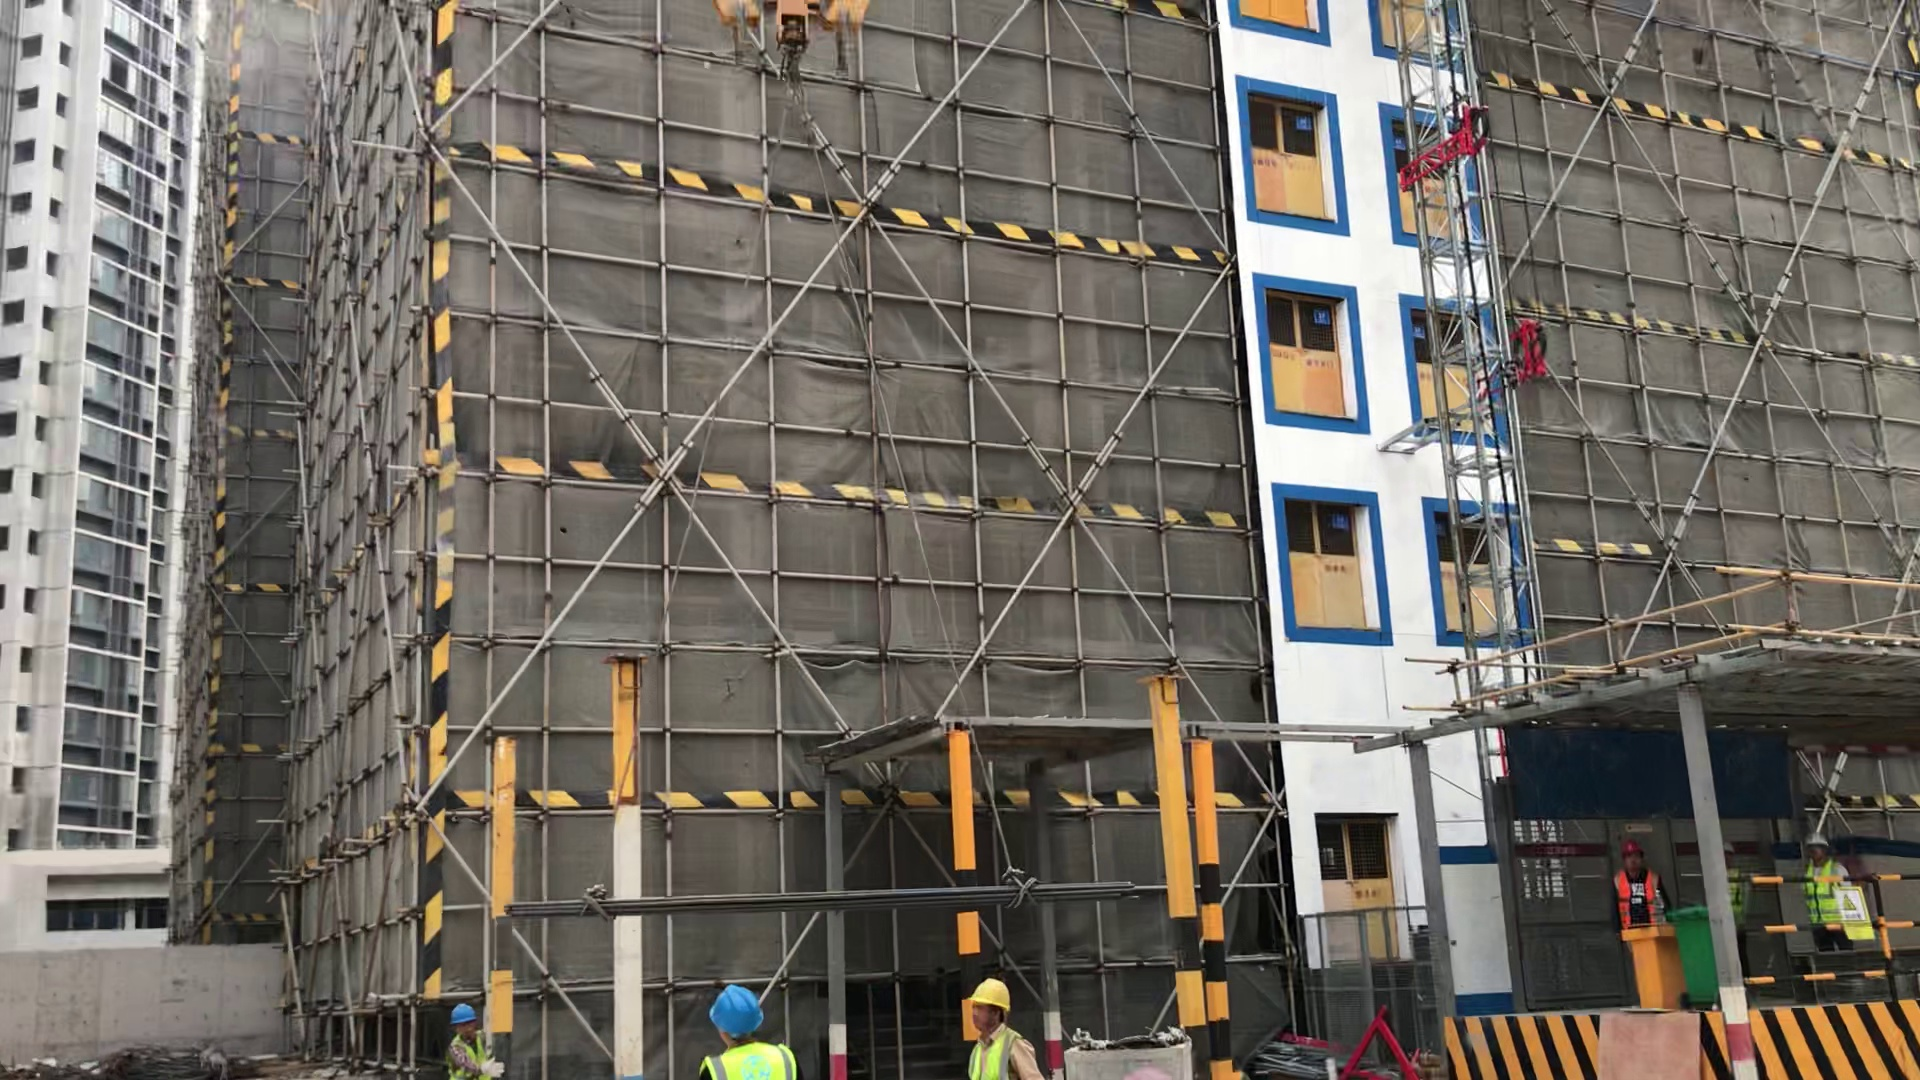fence: (1715, 869, 1920, 1009)
helmet: (696, 976, 777, 1031), (965, 970, 1030, 1014), (439, 989, 477, 1023), (1800, 827, 1837, 851), (1618, 837, 1655, 857), (1721, 834, 1739, 856)
hook: (694, 4, 926, 97)
person: (928, 950, 1069, 1080), (690, 965, 808, 1080), (1789, 818, 1866, 989), (423, 974, 520, 1080), (1600, 819, 1675, 949), (1720, 831, 1762, 939)
rebar: (499, 885, 1156, 926)
slogan: (1815, 870, 1881, 950)
vest: (682, 1037, 811, 1080), (953, 1026, 1051, 1080), (1797, 857, 1855, 939), (1606, 864, 1674, 934), (444, 1030, 500, 1080), (1723, 873, 1755, 918)
